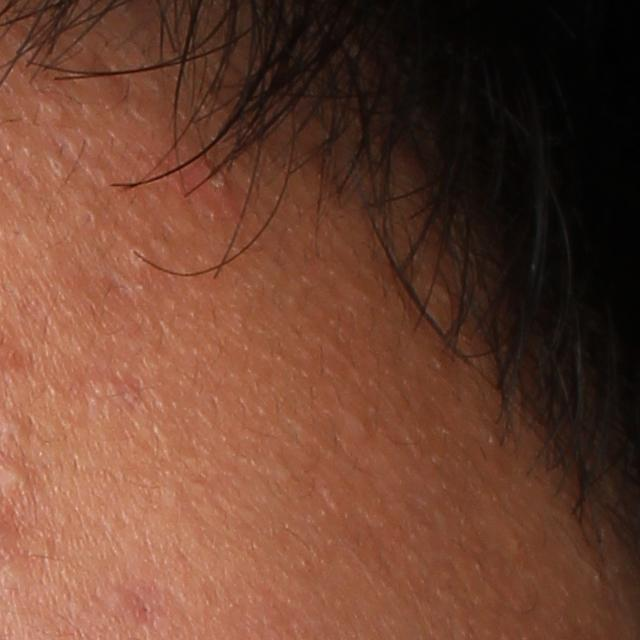comedo: (350, 418, 373, 438)
